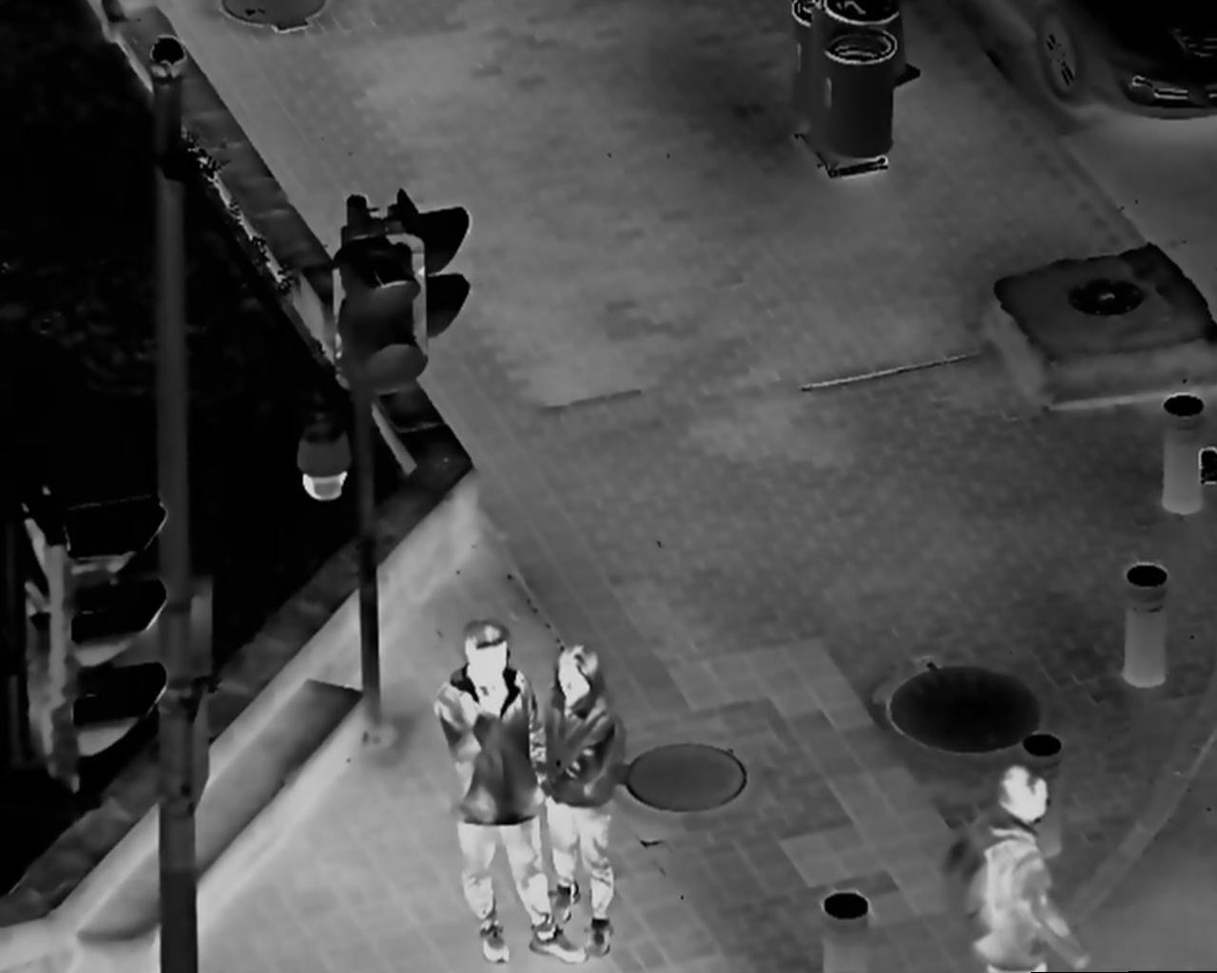person: (431, 619, 588, 973), (531, 639, 645, 957), (937, 761, 1091, 973)
